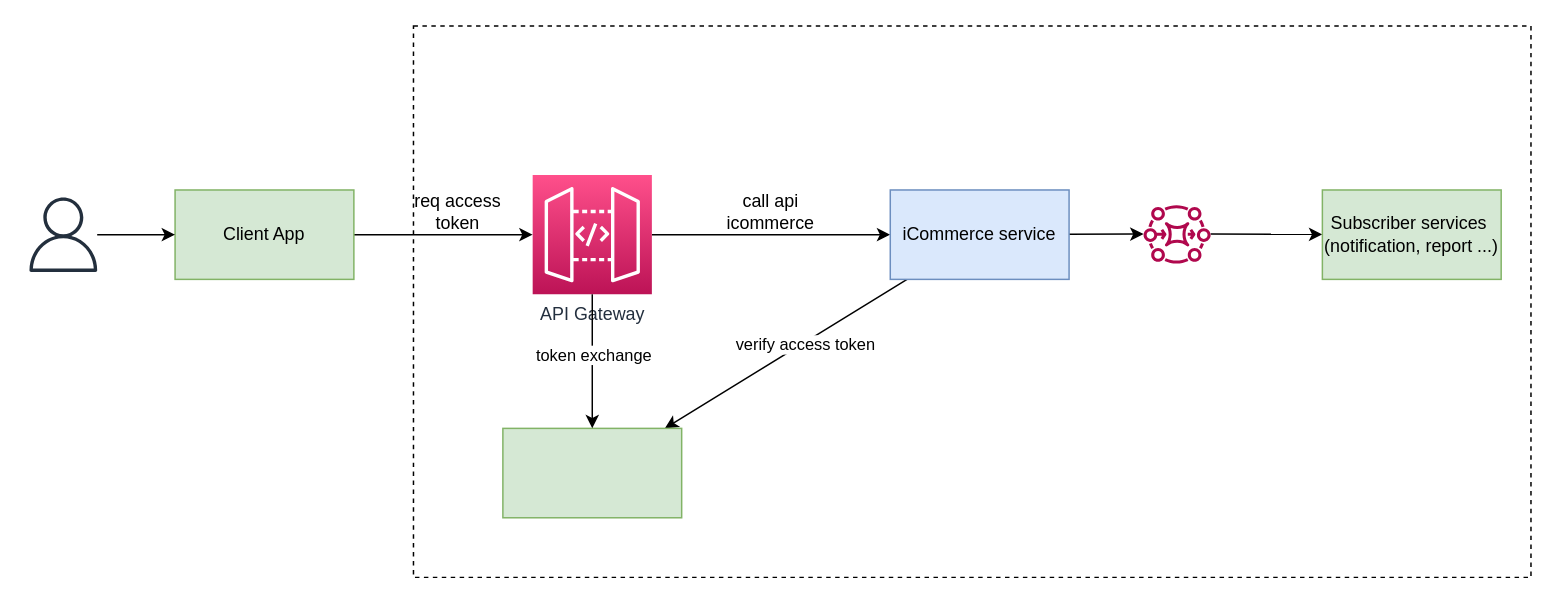
Image size: 1557x603. Some labels were removed from this diagram. The centre of each missing label's shape, as x and y in pixels:
"Identity Provider" belongs at pixel 591 472.
"Message broker" belongs at pixel 1176 233.
